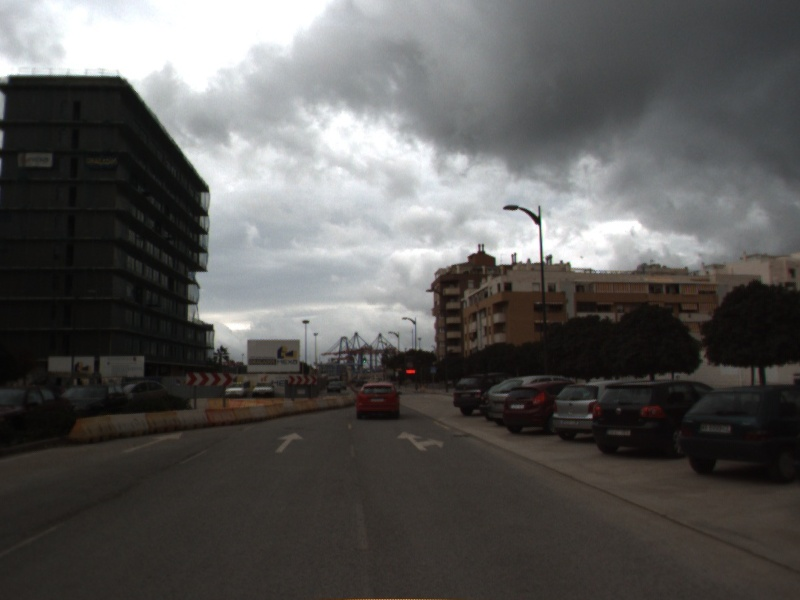STRAIGHT: (119, 430, 186, 455), (273, 430, 307, 454)
STRAIGHT_RIGHT: (395, 429, 446, 453)
